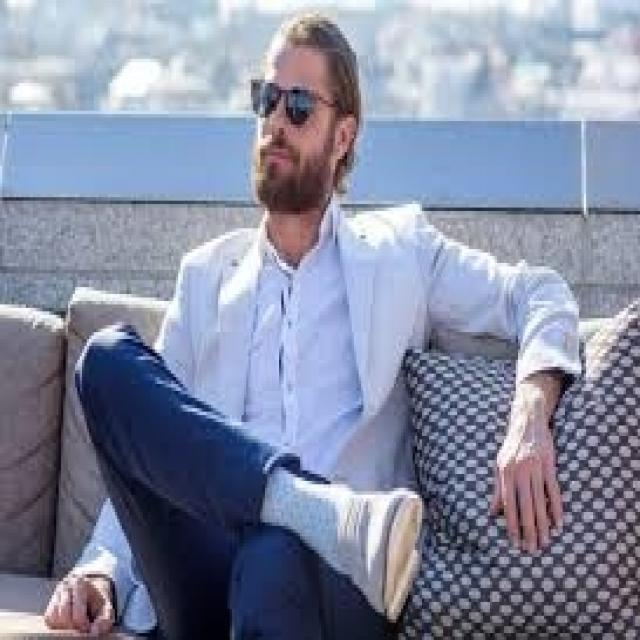sitting: (30, 3, 612, 639)
